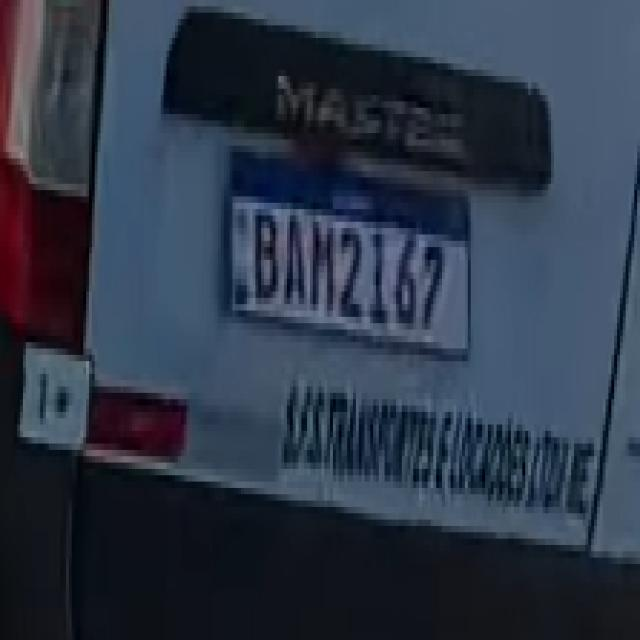Placa_mercosul_carro: (223, 142, 475, 362)
